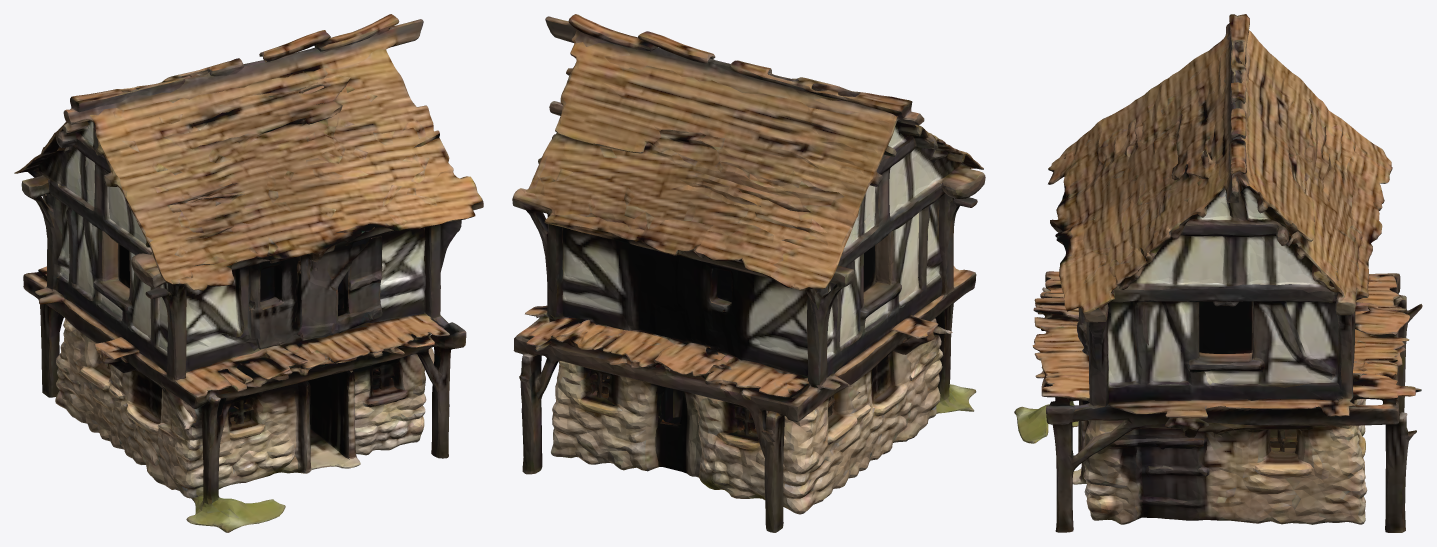
The model's file is war_barn_ruin_01.glb.
3 views of the same model, side by side, from view 1: azimuth 30°, elevation 25°; view 2: azimuth 150°, elevation 25°; view 3: azimuth 270°, elevation 25° (orthographic). The views are drawn at different scales.
Visible parts, largest first — view 1: geometry_0; view 2: geometry_0; view 3: geometry_0.
Boxes of the visible parts, x1,y1,x2,y2 form: geometry_0: [14, 14, 483, 532]; geometry_0: [512, 14, 985, 532]; geometry_0: [1014, 14, 1422, 532].
Size of the model in its own units: 0.9996 by 1 by 0.9607.
1 material, 1 textured.
